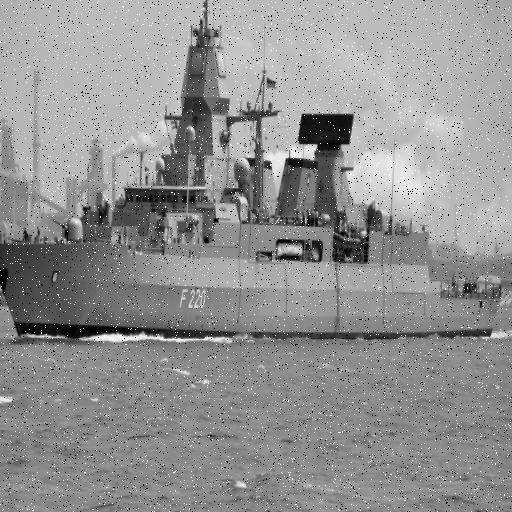Fragata: (1, 1, 510, 350)
